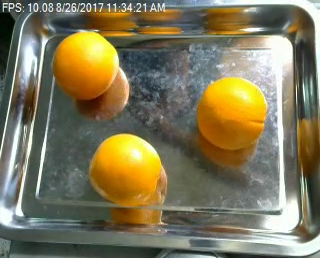Orange: (89, 133, 162, 203), (197, 76, 267, 149), (52, 30, 120, 100)
